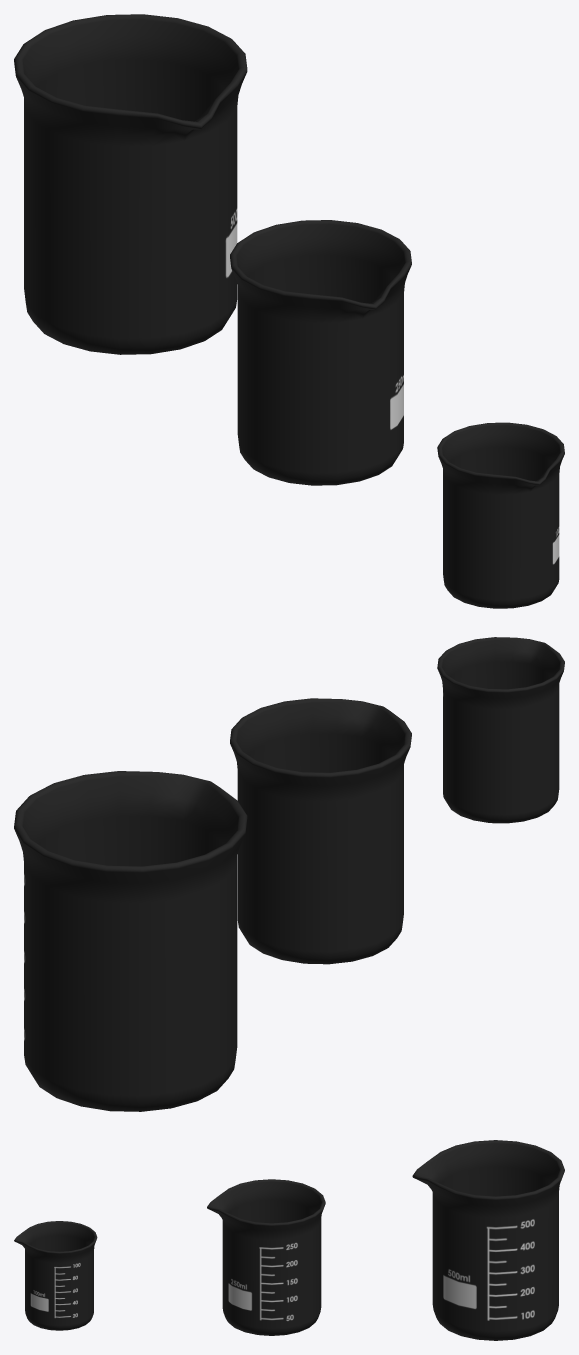
Rendered from Beakers.fbx.
The picture shows the model from 3 angles, top to bottom: view 1: azimuth 30°, elevation 25°; view 2: azimuth 150°, elevation 25°; view 3: azimuth 270°, elevation 25°; orthographic projection. The views are drawn at different scales.
Parts seen in each view (by area): view 1: Bequer_500mL, Bequer_250mL, Bequer_100mL; view 2: Bequer_500mL, Bequer_250mL, Bequer_100mL; view 3: Bequer_500mL, Bequer_250mL, Bequer_100mL.
Part boxes in pixels (x1,y1,x2,y2): Bequer_500mL: (14, 14, 247, 354); Bequer_250mL: (230, 220, 411, 485); Bequer_100mL: (437, 422, 564, 608); Bequer_500mL: (14, 771, 247, 1111); Bequer_250mL: (230, 698, 411, 964); Bequer_100mL: (437, 637, 564, 823); Bequer_500mL: (412, 1140, 564, 1340); Bequer_250mL: (207, 1179, 325, 1335); Bequer_100mL: (14, 1221, 97, 1330).
Bounding box in the file's own units: 12.47 × 14.92 × 49.69.
1 material, 1 textured.
